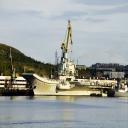Portanaves: (21, 53, 119, 98)
